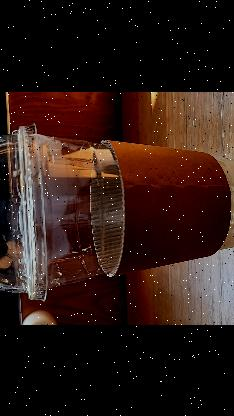Others: (0, 123, 234, 300), (0, 121, 51, 298)
